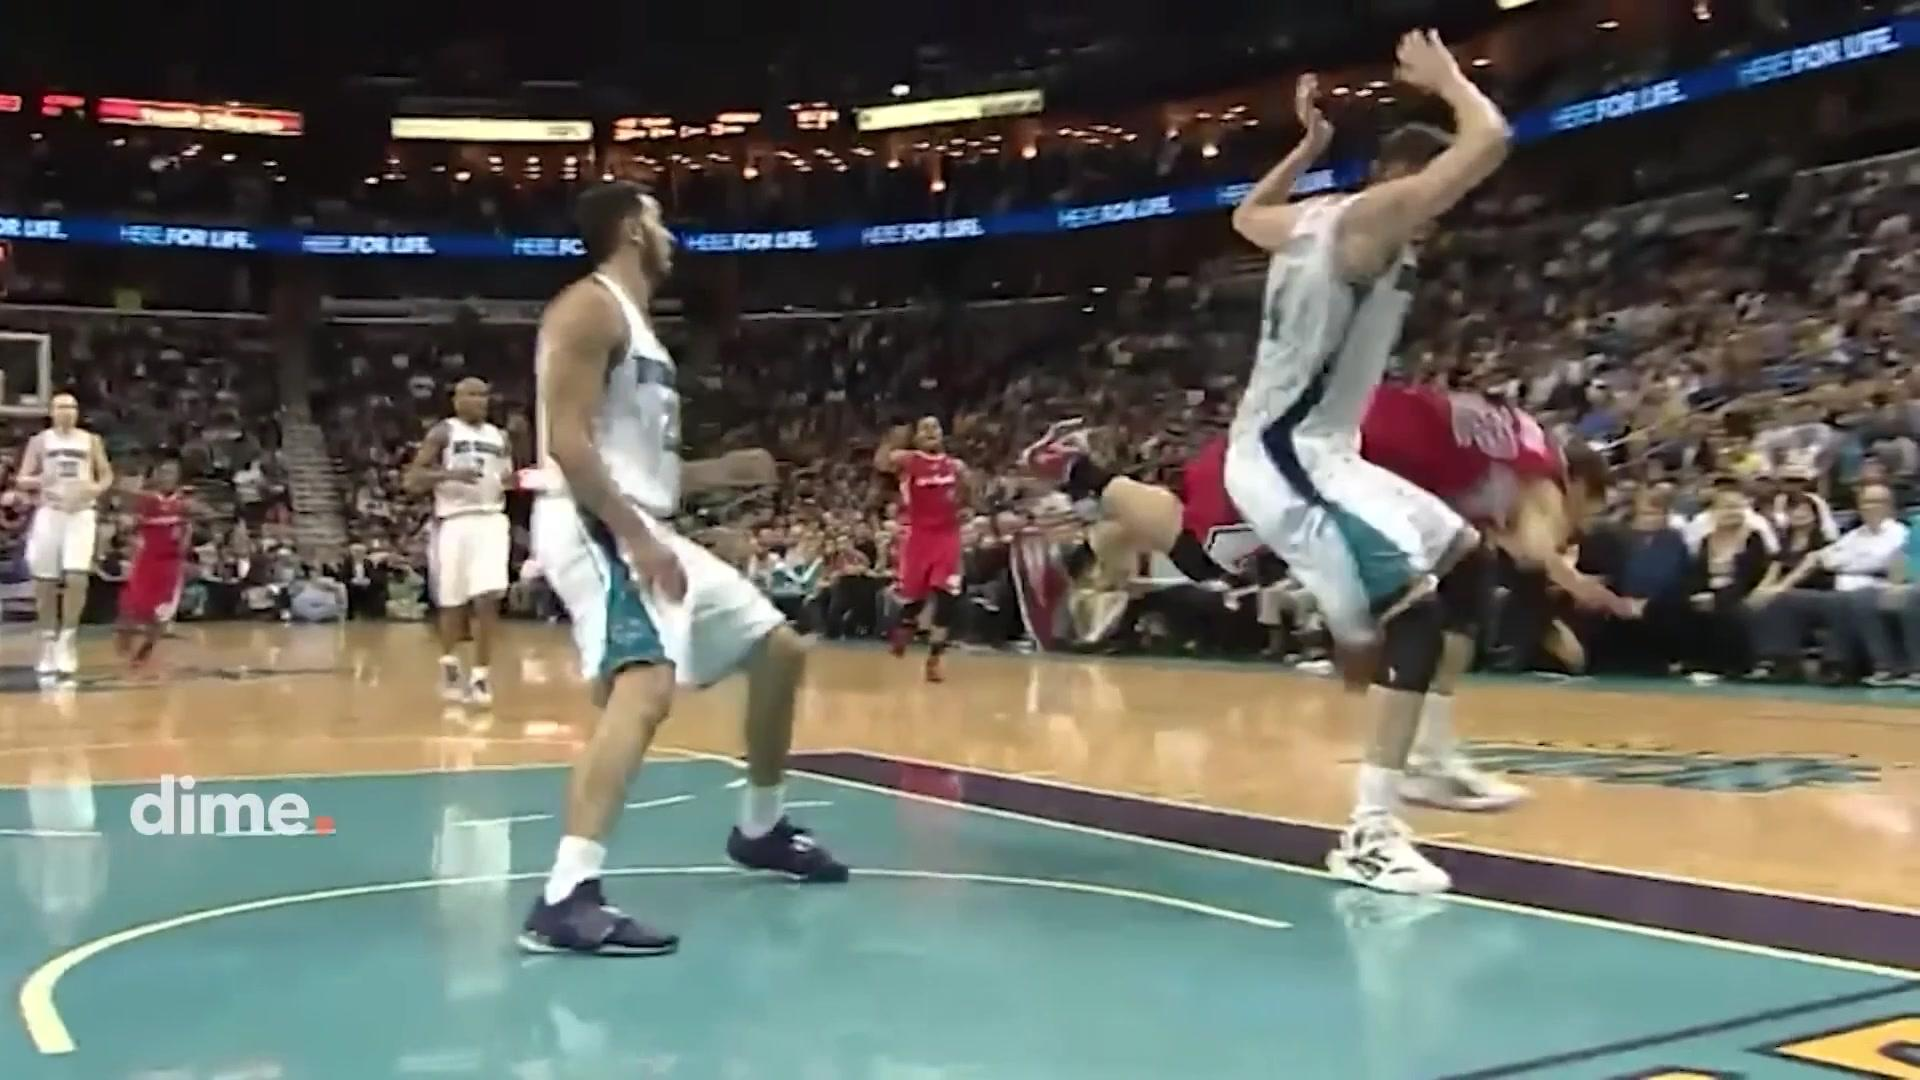foul: (1116, 113, 1648, 886)
